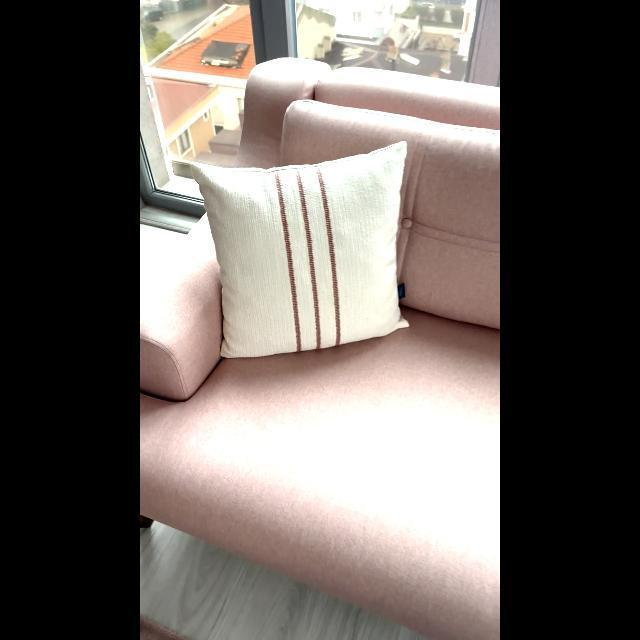throw pillow: (190, 121, 428, 376)
